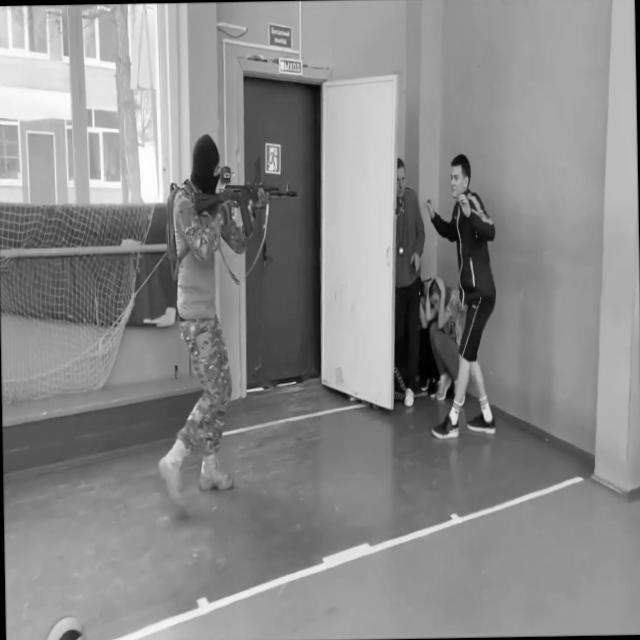gun: (192, 176, 300, 241)
person: (426, 150, 498, 440), (394, 157, 427, 409), (426, 274, 468, 406)
person with a gun: (150, 130, 306, 514)
